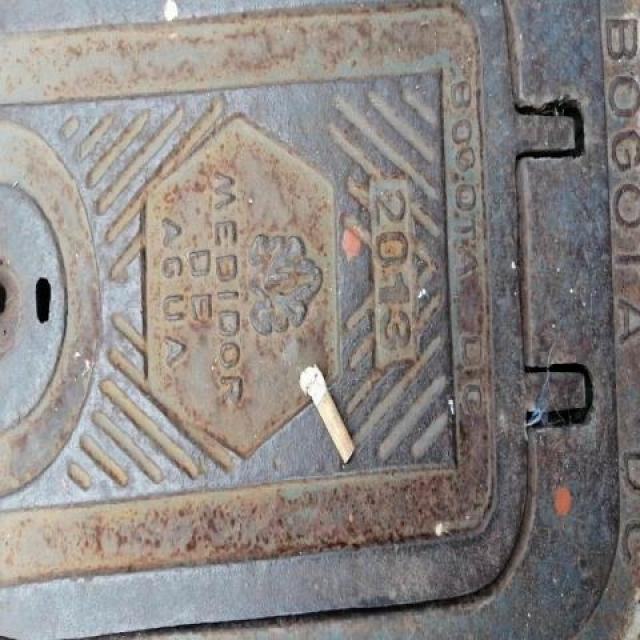non-organic waste: (296, 359, 360, 468)
